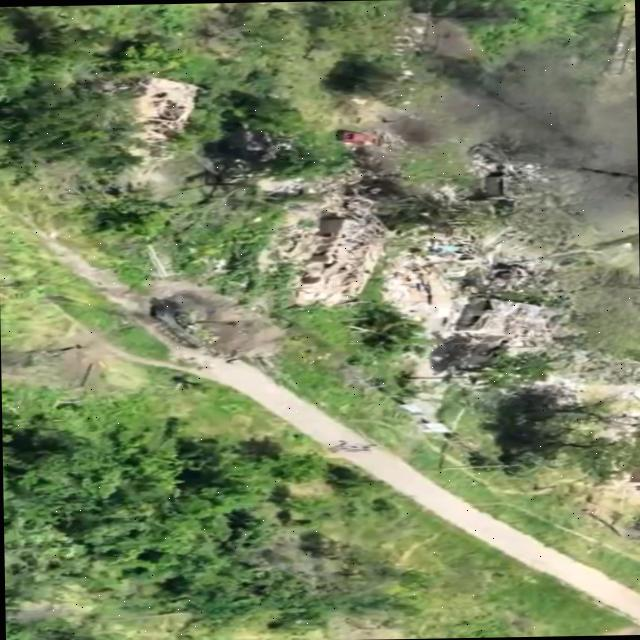MBT: (146, 299, 237, 351)
Vehicle: (336, 129, 372, 145)
